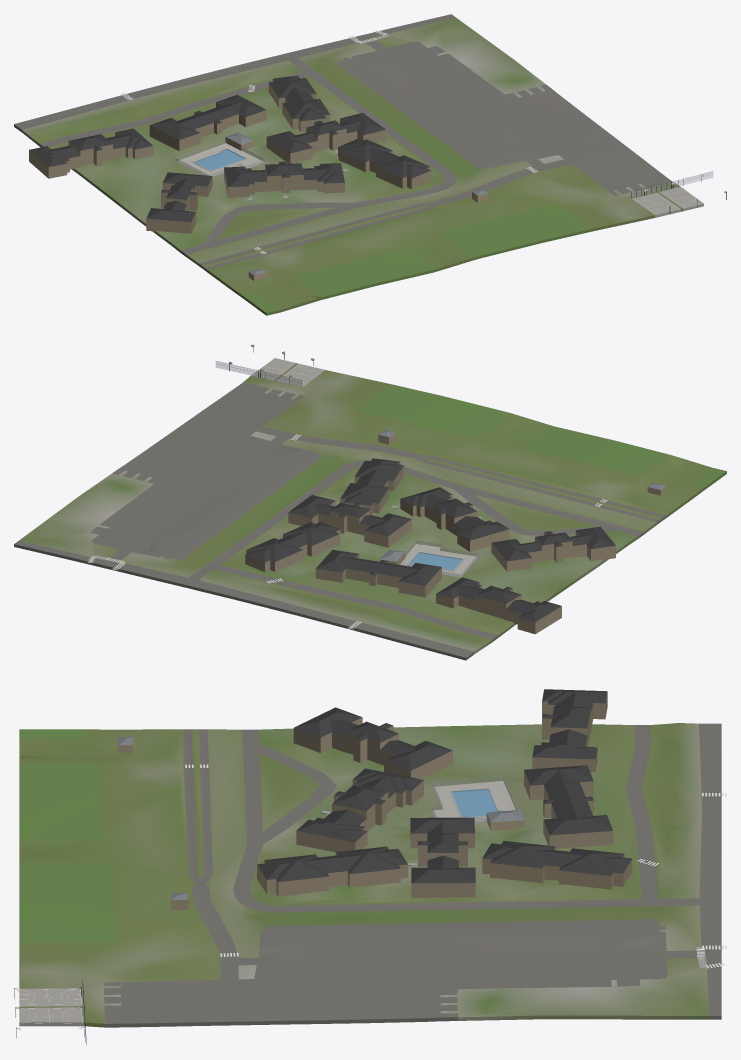
3 renders of one model, top to bottom at view 1: azimuth 30°, elevation 25°; view 2: azimuth 150°, elevation 25°; view 3: azimuth 270°, elevation 25°, orthographic. The views are drawn at different scales.
Parts seen in each view (by area): view 1: D--1-1.L0:utd:matte, D--1-1.L0:utd:matte:flat, D--1-1.L0:utd:glass:flat, D--1-1.L0:utd:water, D--1-1.L0:utd:metal:flat; view 2: D--1-1.L0:utd:matte, D--1-1.L0:utd:matte:flat, D--1-1.L0:utd:glass:flat, D--1-1.L0:utd:water; view 3: D--1-1.L0:utd:matte, D--1-1.L0:utd:matte:flat, D--1-1.L0:utd:water, D--1-1.L0:utd:metal:flat, D--1-1.L0:utd:paint:flat, D--1-1.L0:utd:glass:flat.
Part boxes in pixels (x1,y1,x2,y2): D--1-1.L0:utd:matte: [14, 14, 703, 315]; D--1-1.L0:utd:matte:flat: [29, 75, 646, 280]; D--1-1.L0:utd:glass:flat: [175, 140, 712, 197]; D--1-1.L0:utd:water: [194, 149, 245, 170]; D--1-1.L0:utd:metal:flat: [226, 132, 726, 275]; D--1-1.L0:utd:matte: [14, 358, 726, 660]; D--1-1.L0:utd:matte:flat: [245, 360, 666, 634]; D--1-1.L0:utd:glass:flat: [216, 361, 478, 577]; D--1-1.L0:utd:water: [409, 552, 462, 570]; D--1-1.L0:utd:matte: [19, 723, 721, 1027]; D--1-1.L0:utd:matte:flat: [18, 689, 632, 1029]; D--1-1.L0:utd:water: [451, 789, 500, 817]; D--1-1.L0:utd:metal:flat: [14, 737, 524, 1045]; D--1-1.L0:utd:paint:flat: [14, 764, 726, 1030]; D--1-1.L0:utd:glass:flat: [85, 776, 517, 1028].
Bounding box in the file's own units: 293 × 15.7 × 260.
